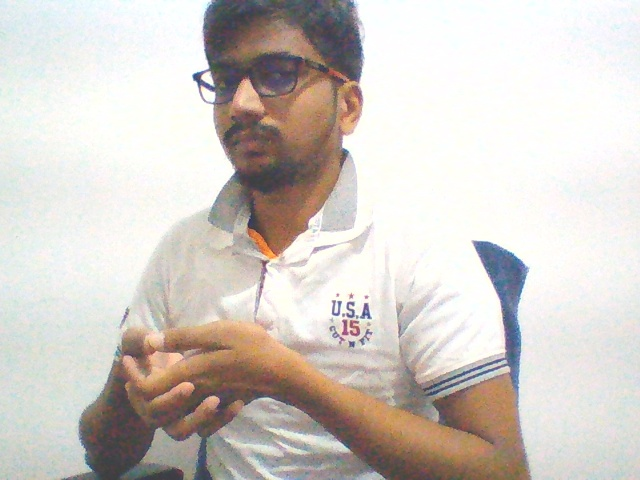mangosteen: (105, 315, 290, 446)
